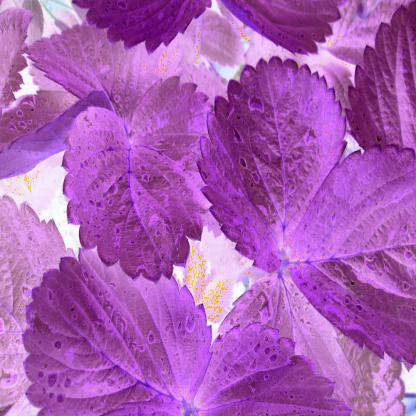strawberry leaf: (200, 47, 350, 293), (22, 240, 217, 415), (58, 72, 209, 285)
